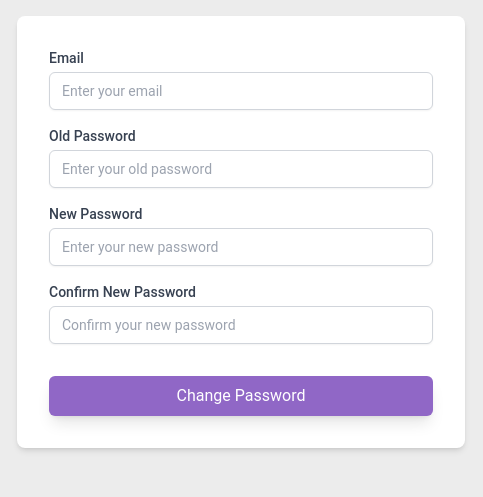
Scenario: ChangePasswordForm suite tests › should display error when changing password fails
The width and height of the screenshot is (483, 497).
Type "test@example.com" into the field with placeholder "Enter your email" at (241, 91), box [49,72,433,110]
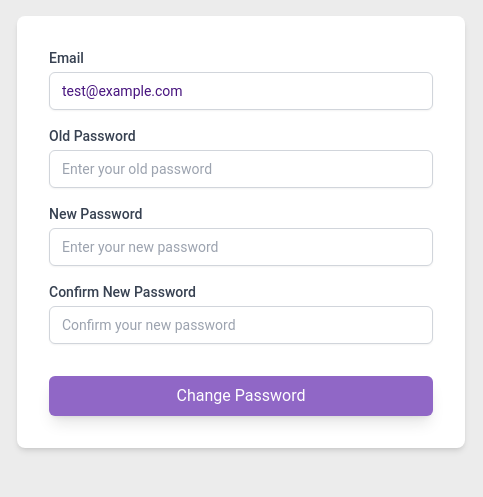
Type "OldPassword1!" into the password field with placeholder "Enter your old password" at (241, 169), box [49,150,433,188]
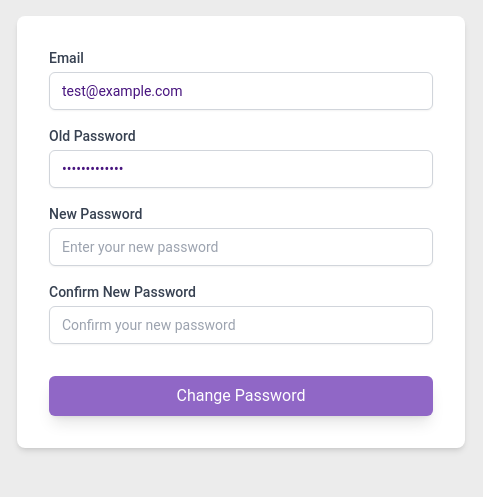
Type "NewPassword1!" into the password field with placeholder "Enter your new password" at (241, 247), box [49,228,433,266]
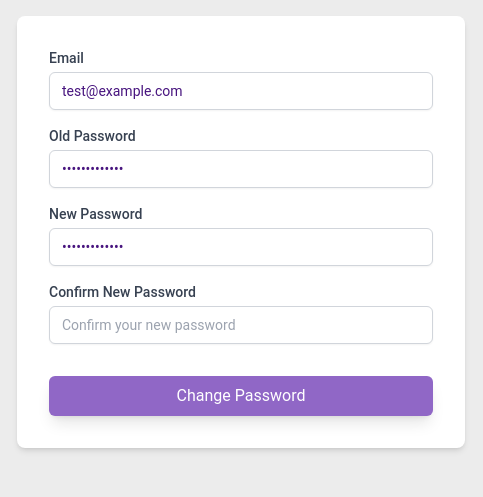
Type "NewPassword1!" into the password field with placeholder "Confirm your new password" at (241, 325), box [49,306,433,344]
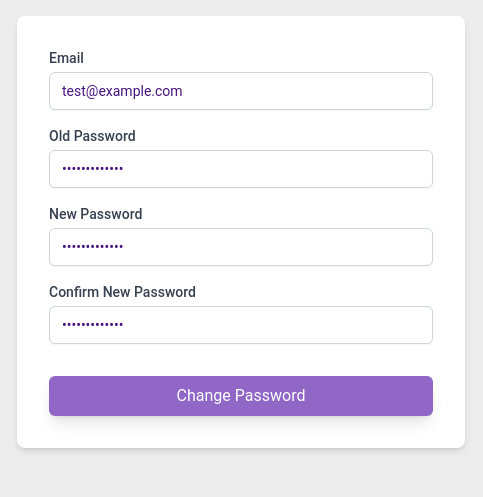
Click the button "Change Password" at (241, 396), box [49,376,433,416]
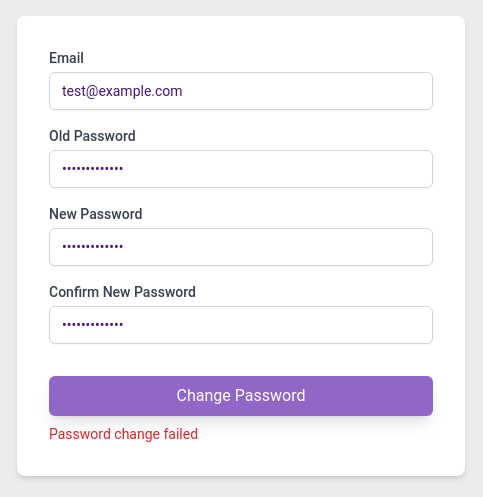
Now the text "Password change failed" is shown, box [49,426,198,442]
